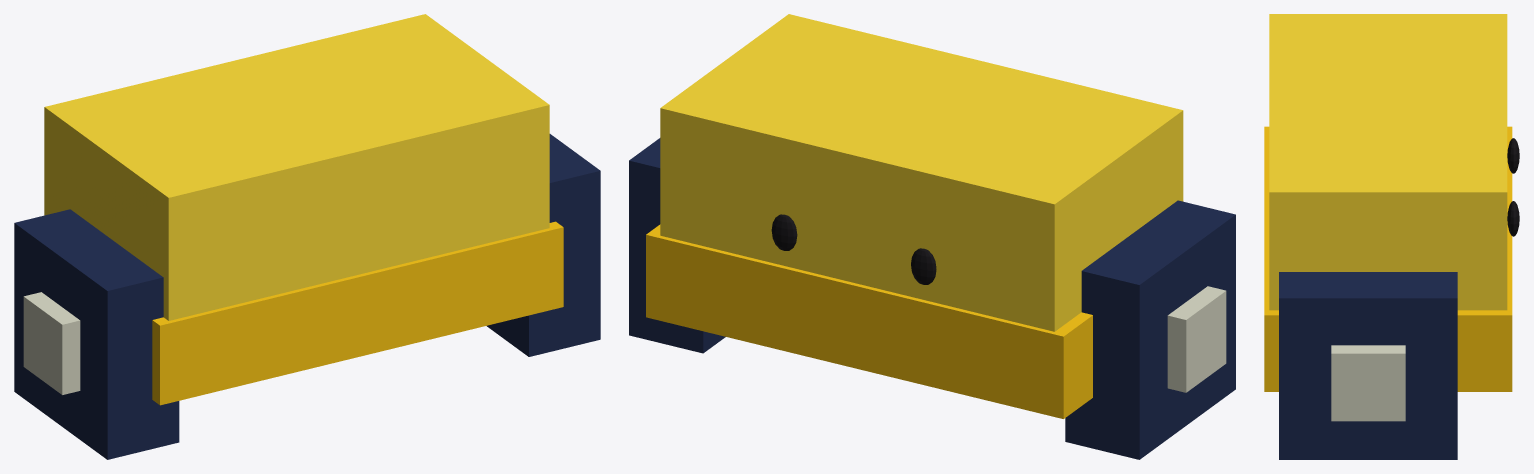
Rendered from Wheelie_Enemy.glb.
3 renders of one model, left to right at view 1: azimuth 30°, elevation 25°; view 2: azimuth 150°, elevation 25°; view 3: azimuth 270°, elevation 25°, orthographic. The views are drawn at different scales.
Parts seen in each view (by area): view 1: LowBody, LowChassis, WheelL, WheelR, HubL; view 2: LowBody, LowChassis, WheelL, WheelR, HubL, DotEyeL, DotEyeR; view 3: LowBody, WheelR, LowChassis, HubR, DotEyeL, DotEyeR.
Part boxes in pixels (x1,y1,x2,y2): LowBody: (44,14,549,320); LowChassis: (152,221,563,405); WheelL: (14,209,179,459); WheelR: (487,134,600,356); HubL: (23,292,80,394); LowBody: (660,14,1183,331); LowChassis: (646,224,1092,418); WheelL: (1065,200,1235,459); WheelR: (629,138,725,353); HubL: (1167,286,1226,392); DotEyeL: (911,248,936,284); DotEyeR: (771,214,797,250); LowBody: (1269,14,1507,310); WheelR: (1279,272,1457,459); LowChassis: (1264,126,1512,391); HubR: (1331,345,1405,421); DotEyeL: (1507,138,1519,173); DotEyeR: (1507,201,1519,236).
Bounding box in the file's own units: 2.36 × 1.08 × 1.03.
